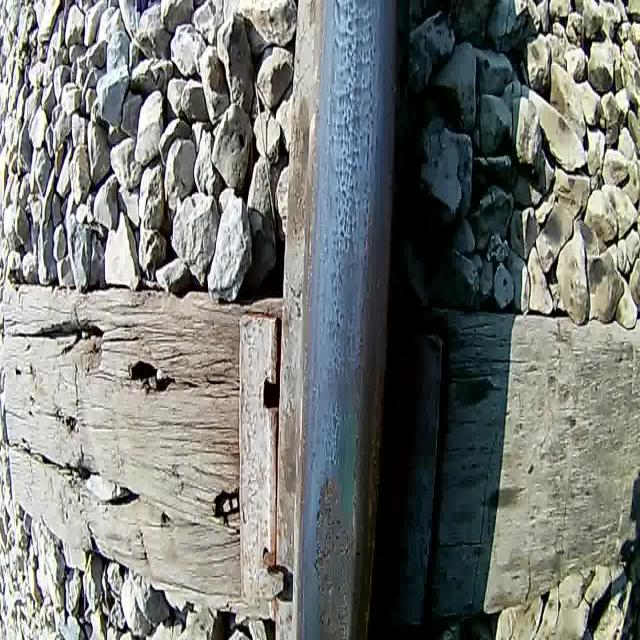Squats: (310, 465, 360, 640)
